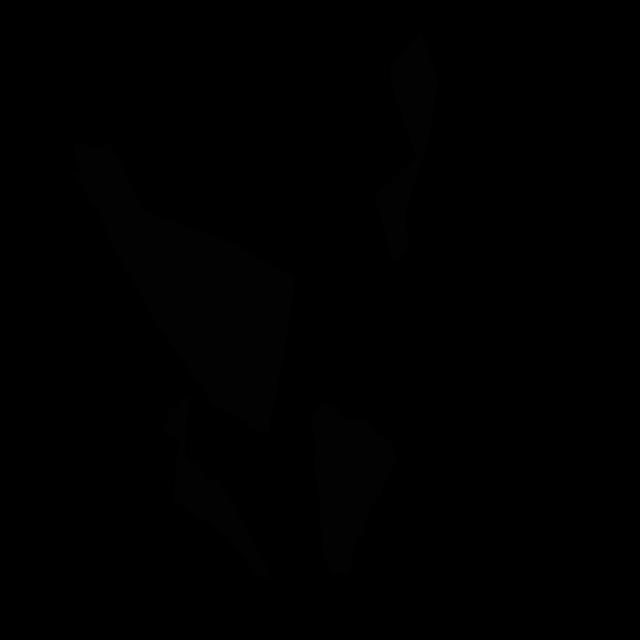cardboard: (74, 142, 296, 436), (162, 397, 275, 580), (374, 31, 438, 261), (312, 401, 396, 575)
